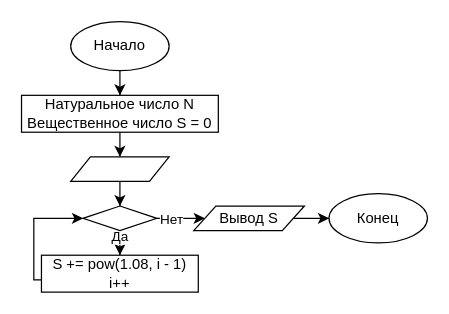
The diagram is 449 pixels wide and 314 high, and some of its shapes have lost their labels. The shapes that lost their labels are listed below. From the top down, each one's centre as x and y in pixels, then its label:
At pixel 119 168: "Ввод N".
At pixel 119 218: "i <= N".
